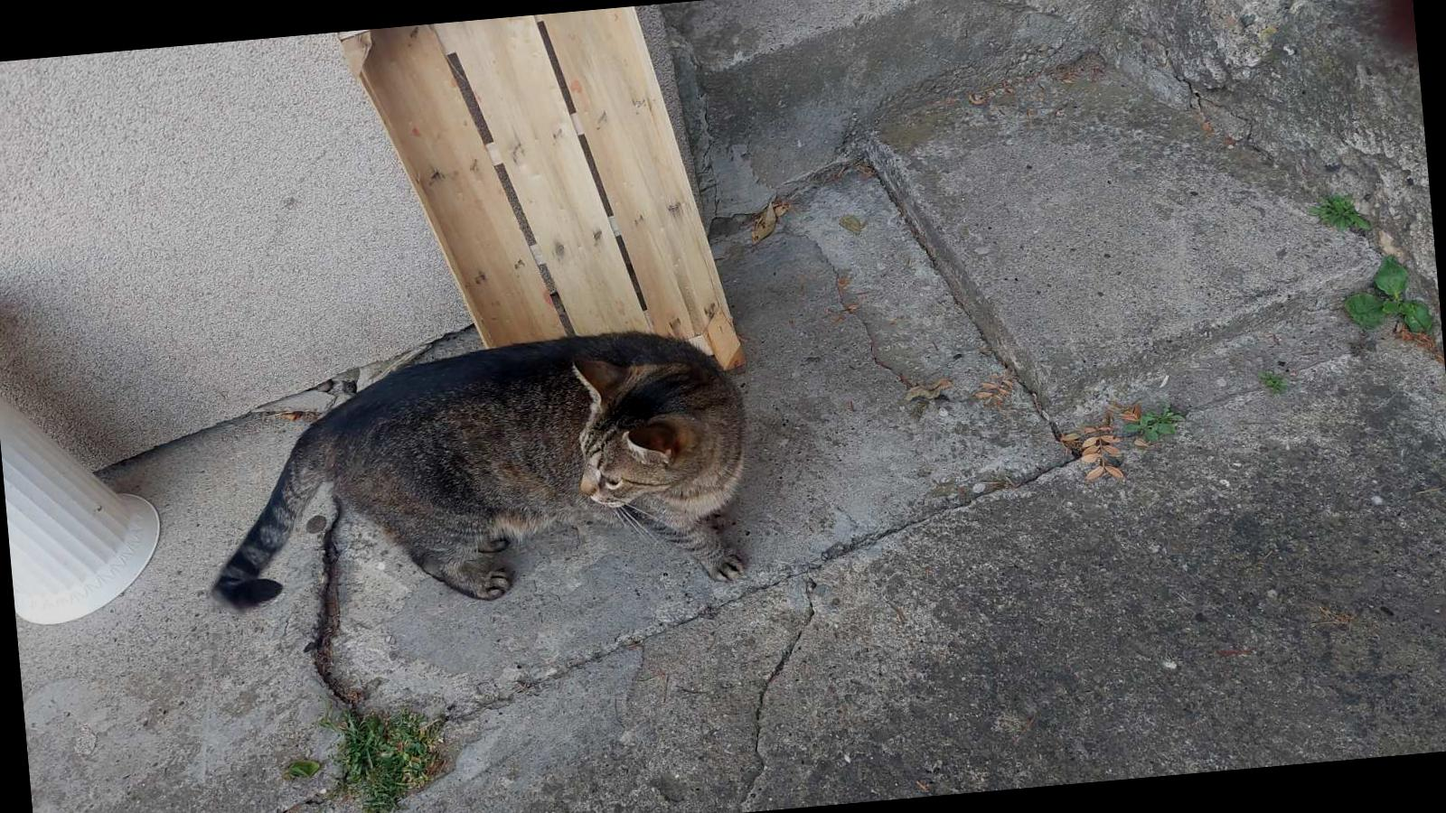macka: (197, 319, 758, 627)
